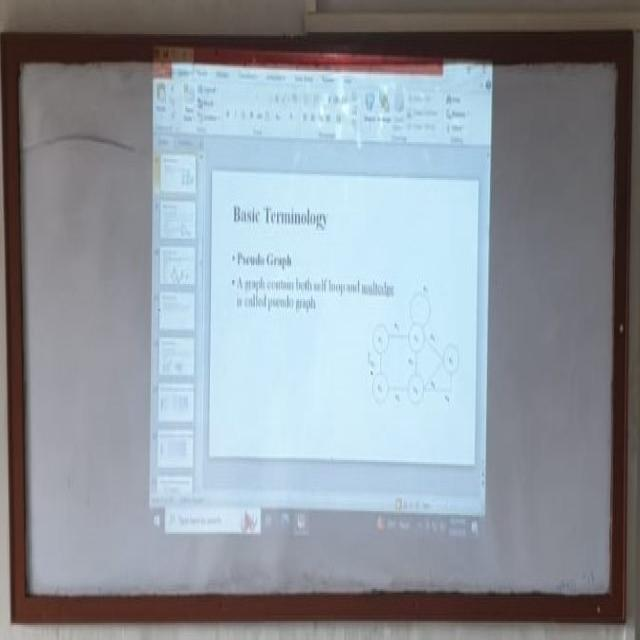Slide: (148, 41, 493, 550)
White-board: (9, 43, 628, 617)
